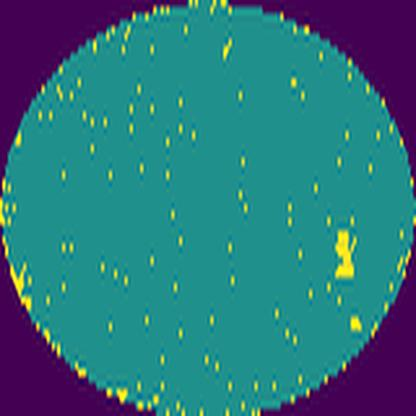Loc: (333, 226, 357, 283)
